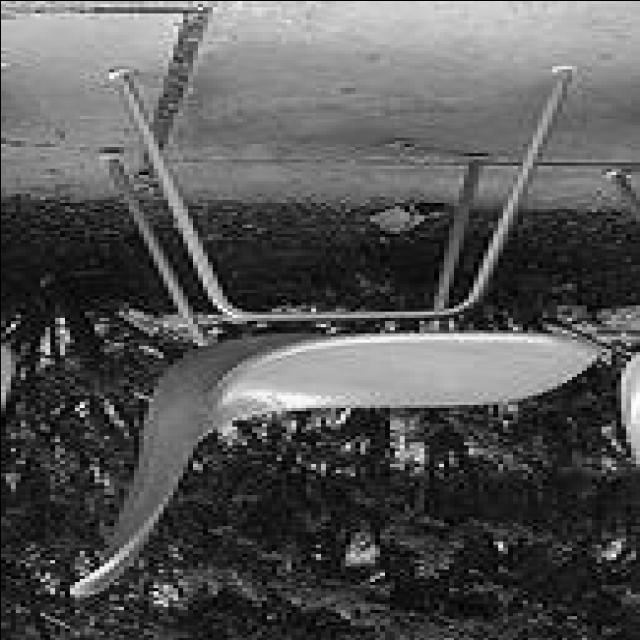chair: (64, 56, 602, 604)
